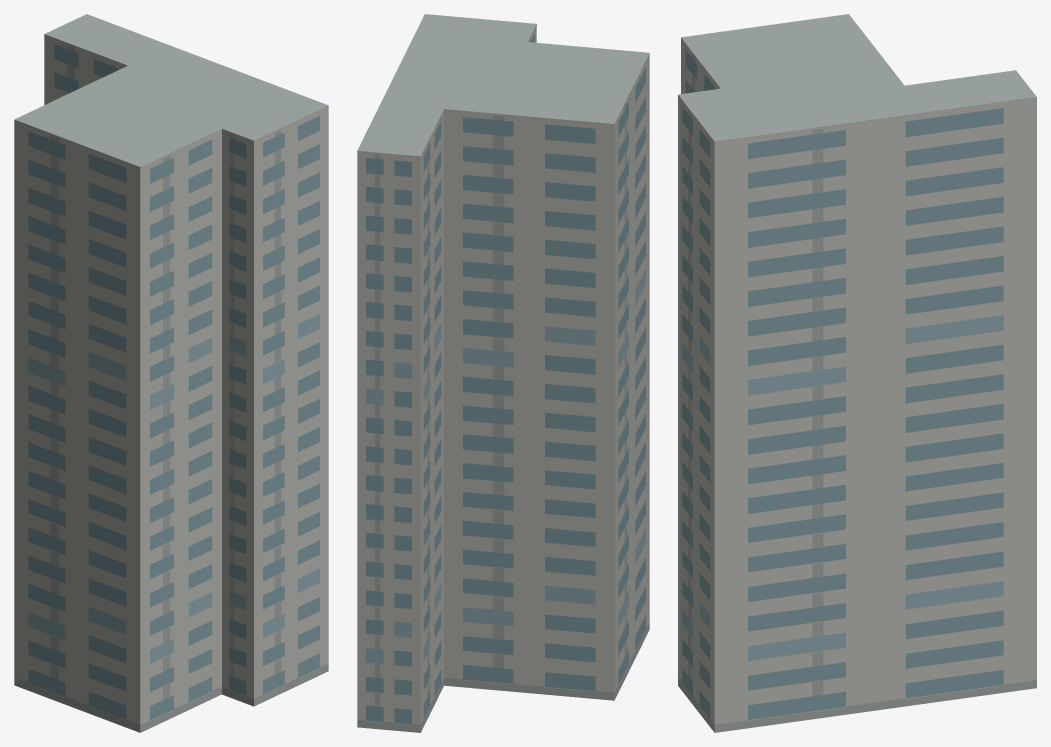
File: residential-161757db-762f-42b9-9cf0-a7f8ca10d4d7.glb
3 renders of one model, left to right at view 1: azimuth 30°, elevation 25°; view 2: azimuth 150°, elevation 25°; view 3: azimuth 270°, elevation 25°, orthographic. The views are drawn at different scales.
Parts seen in each view (by area): view 1: residential-161757db-762f-42b9-9cf0-a7f8ca10d4d7.tmp; view 2: residential-161757db-762f-42b9-9cf0-a7f8ca10d4d7.tmp; view 3: residential-161757db-762f-42b9-9cf0-a7f8ca10d4d7.tmp.
Part boxes in pixels (bbox=[...]): residential-161757db-762f-42b9-9cf0-a7f8ca10d4d7.tmp: bbox=[14, 14, 328, 732]; residential-161757db-762f-42b9-9cf0-a7f8ca10d4d7.tmp: bbox=[357, 14, 649, 732]; residential-161757db-762f-42b9-9cf0-a7f8ca10d4d7.tmp: bbox=[678, 14, 1036, 732].
Bounding box in the file's own units: 31.02 × 67 × 36.85.
